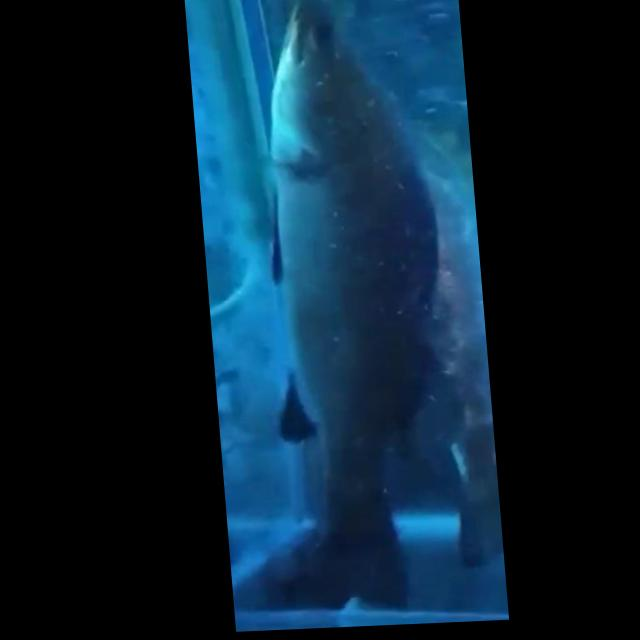Seabass: (226, 0, 467, 614)
